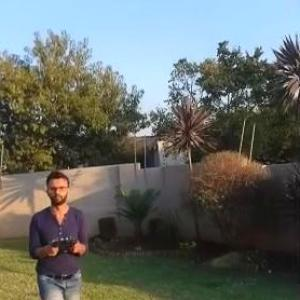follow: (26, 165, 93, 299)
